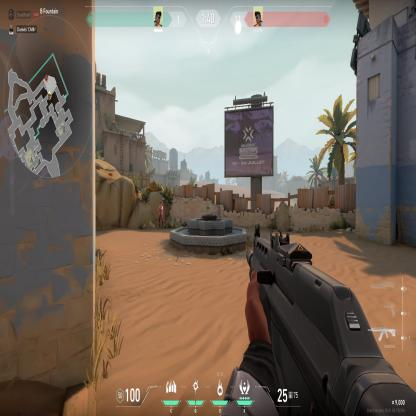enemy: (157, 200, 164, 230)
